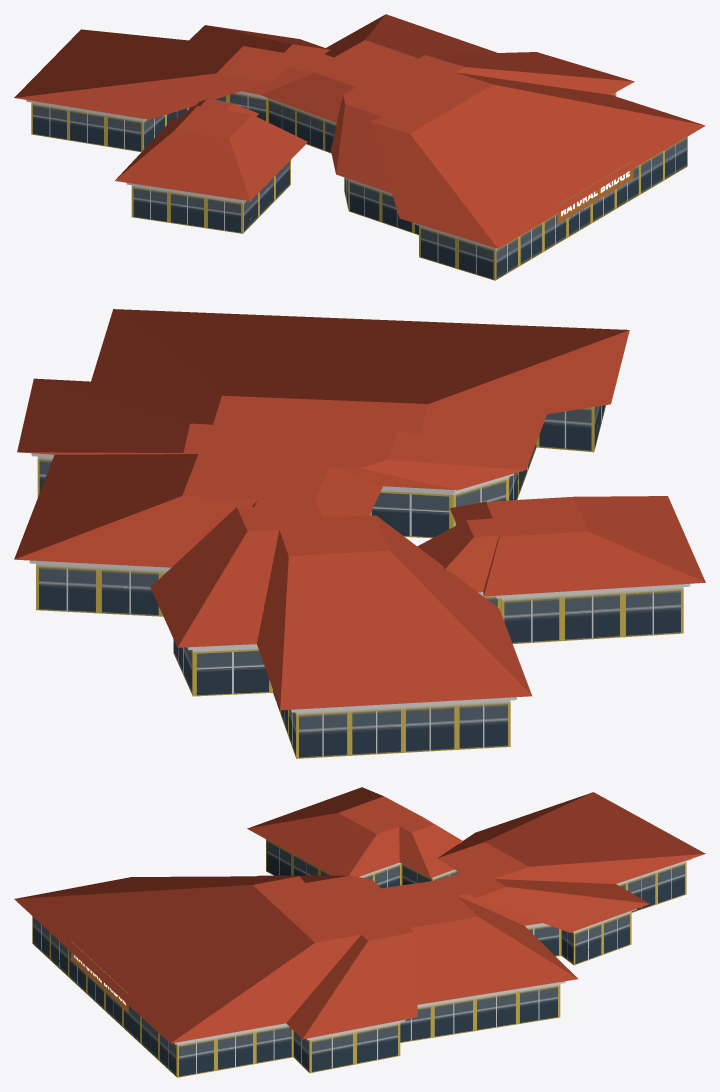
Rendered from naturalbridge.glb.
3 views of the same model, one above another, from view 1: azimuth 30°, elevation 25°; view 2: azimuth 150°, elevation 25°; view 3: azimuth 270°, elevation 25° (orthographic). The views are drawn at different scales.
Visible parts, largest first — view 1: naturalbridge_lod0; view 2: naturalbridge_lod0; view 3: naturalbridge_lod0.
Part boxes in pixels (left/top/right/bottom): naturalbridge_lod0: left=14, top=14, right=705, bottom=280; naturalbridge_lod0: left=14, top=309, right=705, bottom=758; naturalbridge_lod0: left=14, top=787, right=705, bottom=1077.
Size of what is drawn, in the model's own units: 52.78 by 6.6 by 60.17.
4 materials, 2 textured.
